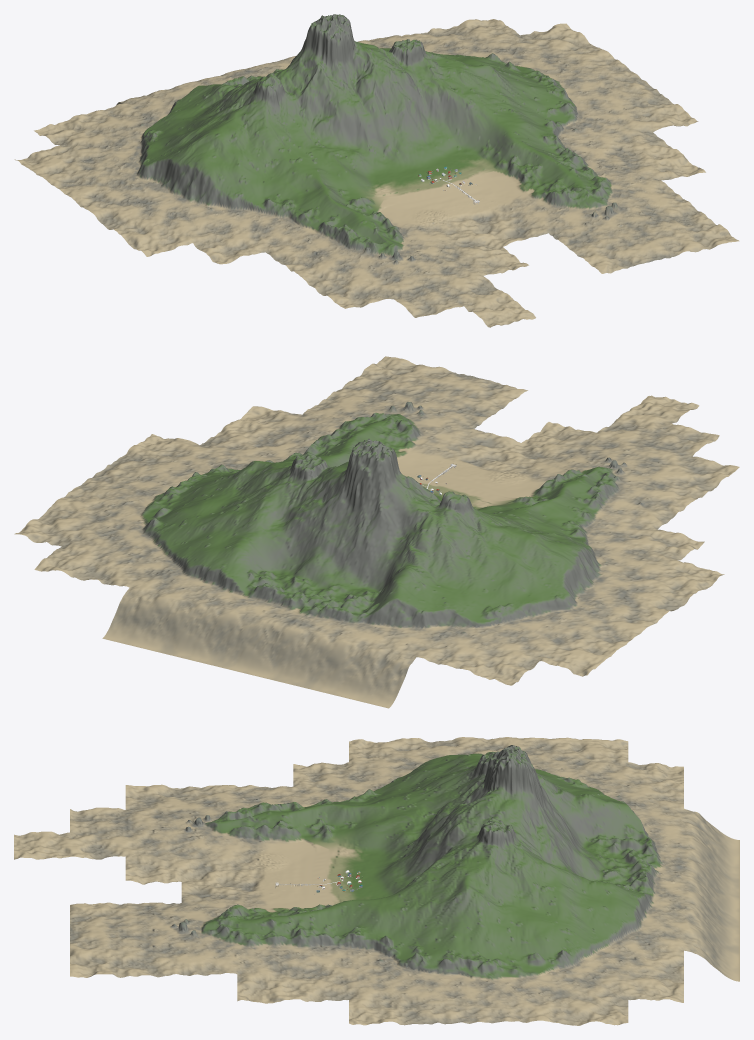
File: island.glb
3 renders of one model, top to bottom at view 1: azimuth 30°, elevation 25°; view 2: azimuth 150°, elevation 25°; view 3: azimuth 270°, elevation 25°, orthographic. The views are drawn at different scales.
Visible parts, largest first — view 1: terrain_-128_-512, terrain_-128_-384, terrain_0_-384, terrain_128_-384, terrain_-512_-384, terrain_-256_-512, terrain_-384_-384, terrain_128_-256, terrain_-256_-384, terrain_-512_-256, terrain_-384_-256, terrain_-384_-512 (+80 smaller); view 2: terrain_-128_-640, terrain_-256_-640, terrain_0_-640, terrain_-384_-640, terrain_-128_-1024, terrain_0_-1024, terrain_-256_-1024, terrain_128_-1024, terrain_-384_-1024, terrain_256_-1024, terrain_-512_-640, terrain_-384_-768 (+89 smaller); view 3: terrain_0_-640, terrain_256_-512, terrain_-256_-768, terrain_384_-512, terrain_384_-640, terrain_0_-512, terrain_256_-384, terrain_256_-640, terrain_128_-512, terrain_256_-768, terrain_256_-256, terrain_384_-384 (+96 smaller).
Boxes of the visible parts, left/top/right/bottom form: terrain_-128_-512: left=297, top=14, right=369, bottom=103; terrain_-128_-384: left=324, top=77, right=396, bottom=155; terrain_0_-384: left=370, top=70, right=441, bottom=145; terrain_128_-384: left=416, top=70, right=488, bottom=138; terrain_-512_-384: left=186, top=138, right=257, bottom=207; terrain_-256_-512: left=251, top=60, right=323, bottom=122; terrain_-384_-384: left=232, top=121, right=303, bottom=179; terrain_128_-256: left=442, top=110, right=514, bottom=169; terrain_-256_-384: left=278, top=104, right=349, bottom=159; terrain_-512_-256: left=212, top=179, right=284, bottom=228; terrain_-384_-256: left=258, top=159, right=330, bottom=211; terrain_-384_-512: left=206, top=81, right=277, bottom=137; terrain_-128_-640: left=328, top=443, right=403, bottom=571; terrain_-256_-640: left=376, top=492, right=450, bottom=572; terrain_0_-640: left=280, top=447, right=354, bottom=548; terrain_-384_-640: left=424, top=519, right=498, bottom=596; terrain_-128_-1024: left=246, top=619, right=320, bottom=684; terrain_0_-1024: left=198, top=608, right=272, bottom=673; terrain_-256_-1024: left=293, top=631, right=367, bottom=696; terrain_128_-1024: left=150, top=596, right=224, bottom=661; terrain_-384_-1024: left=341, top=645, right=415, bottom=708; terrain_256_-1024: left=102, top=588, right=176, bottom=649; terrain_-512_-640: left=472, top=557, right=546, bottom=624; terrain_-384_-768: left=396, top=569, right=470, bottom=632; terrain_0_-640: left=516, top=762, right=572, bottom=870; terrain_256_-512: left=460, top=866, right=516, bottom=920; terrain_-256_-768: left=572, top=793, right=628, bottom=846; terrain_384_-512: left=460, top=912, right=516, bottom=964; terrain_384_-640: left=516, top=920, right=572, bottom=969; terrain_0_-512: left=460, top=761, right=516, bottom=843; terrain_256_-384: left=405, top=869, right=460, bottom=932; terrain_256_-640: left=516, top=876, right=572, bottom=929; terrain_128_-512: left=460, top=820, right=516, bottom=877; terrain_256_-768: left=572, top=892, right=628, bottom=946; terrain_256_-256: left=349, top=891, right=404, bottom=940; terrain_384_-384: left=405, top=915, right=460, bottom=969.
Bounding box in the file's own units: 1536 × 392 × 1664.
